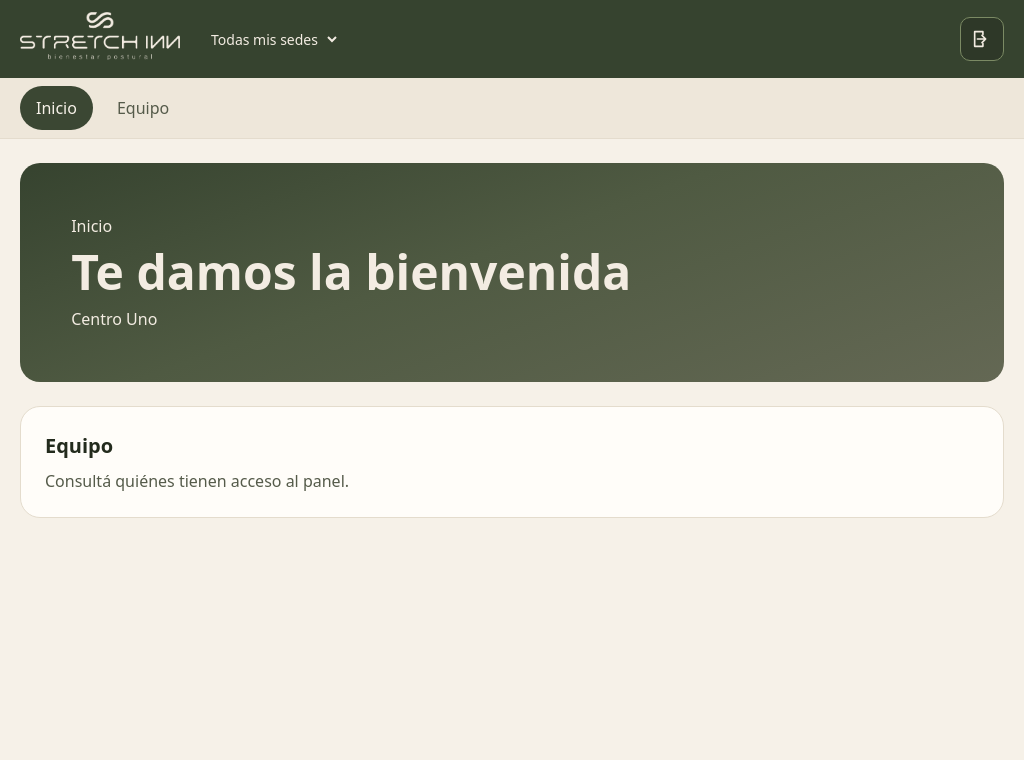
Test: sumar persona › muestra el error de la API tal cual
Click the link "Equipo" at (143, 108), box [117,97,169,119]
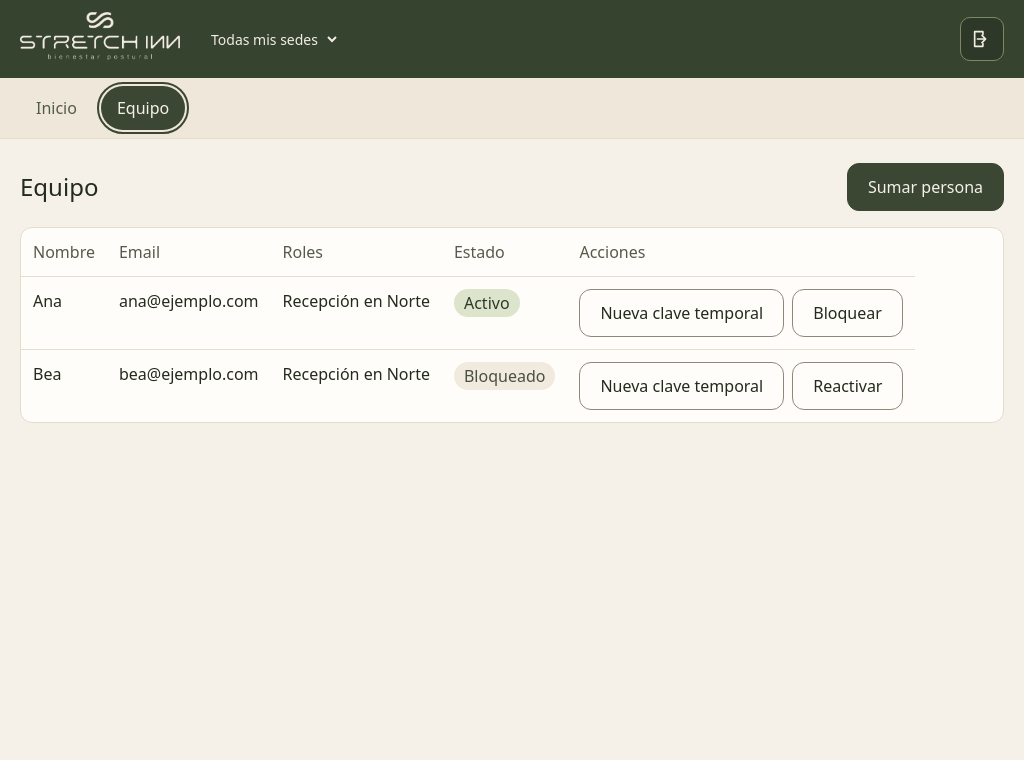
Expected: the heading "Equipo" is shown, [20,169,98,205]
Click the button "Sumar persona" at (925, 187), box [847,163,1004,211]
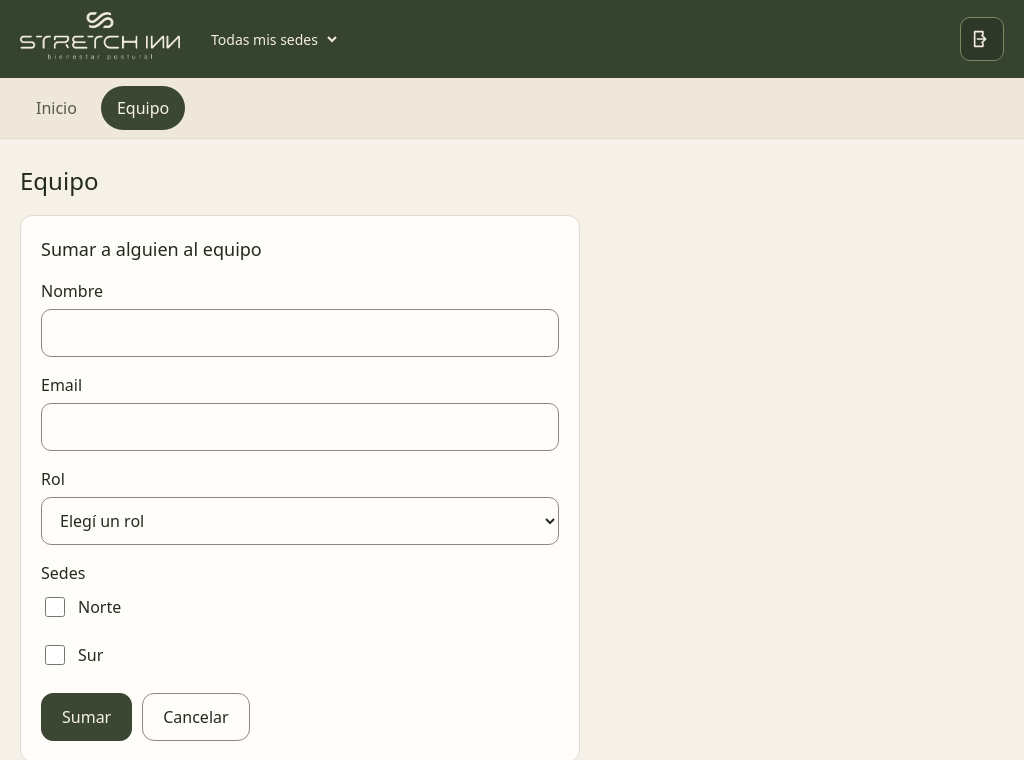
Type "Caro" into the field labelled "Nombre" at (300, 333), box [41,309,559,357]
Type "caro@ejemplo.com" into the field labelled "Email" at (300, 427), box [41,403,559,451]
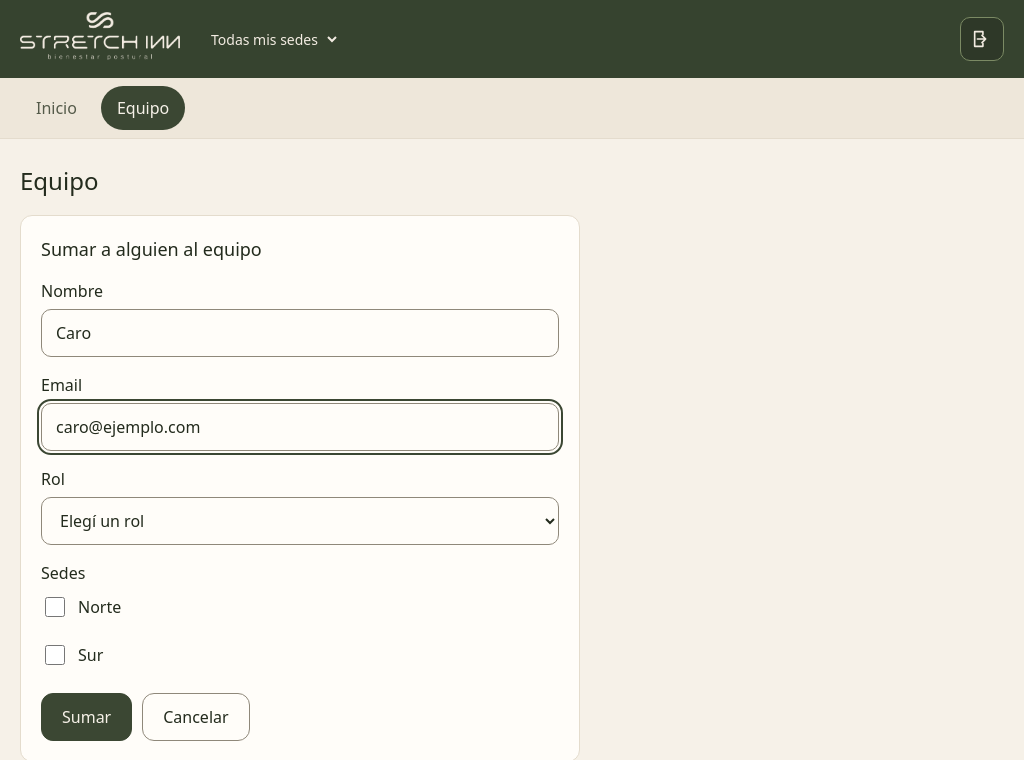
Select "Recepción" in the dropdown labelled "Rol" at (300, 521), box [41,497,559,545]
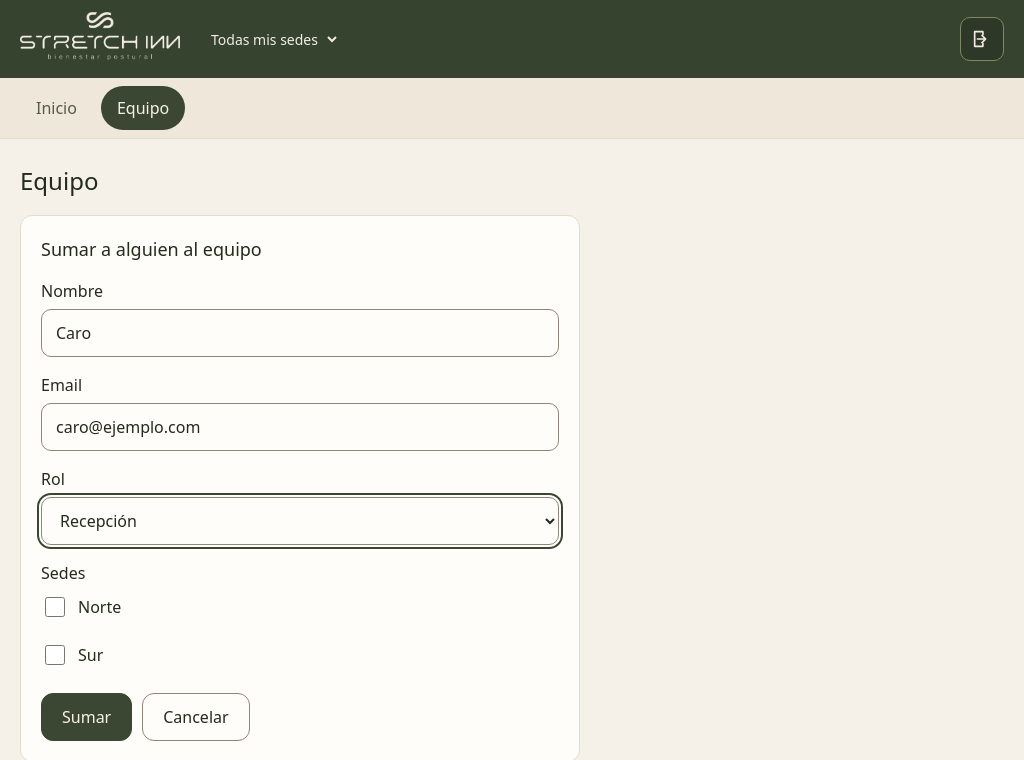
Click the checkbox labelled "Norte" at (55, 607), box [45,597,65,617]
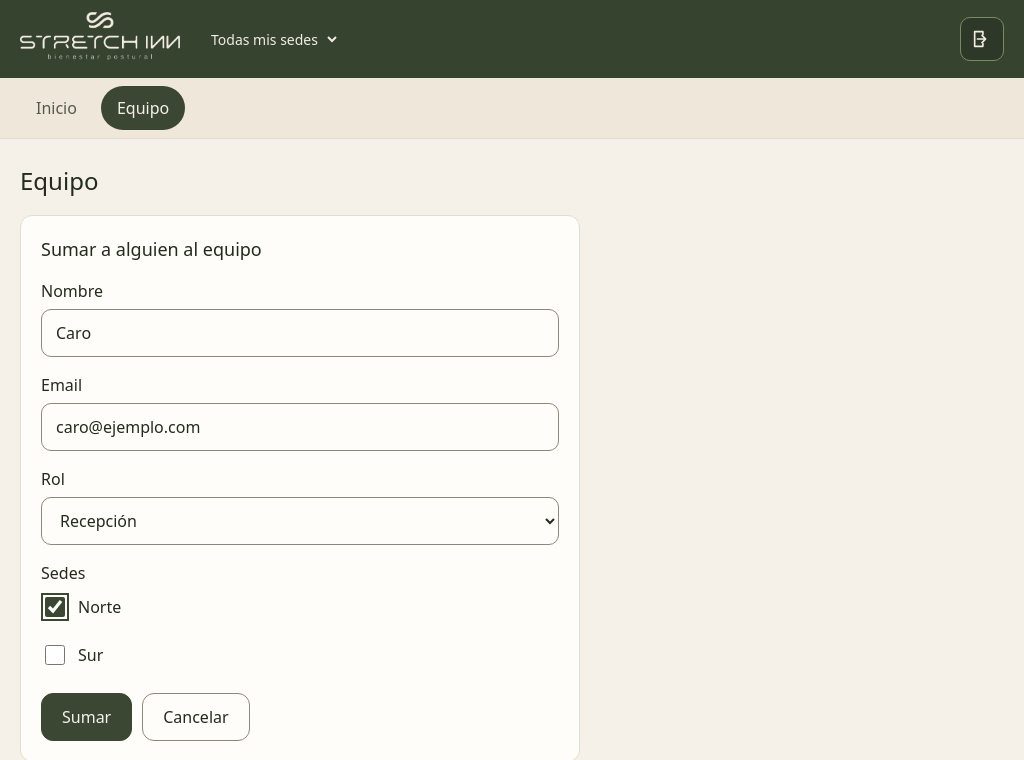
Click the button "Sumar" at (87, 717), box [41,693,132,741]
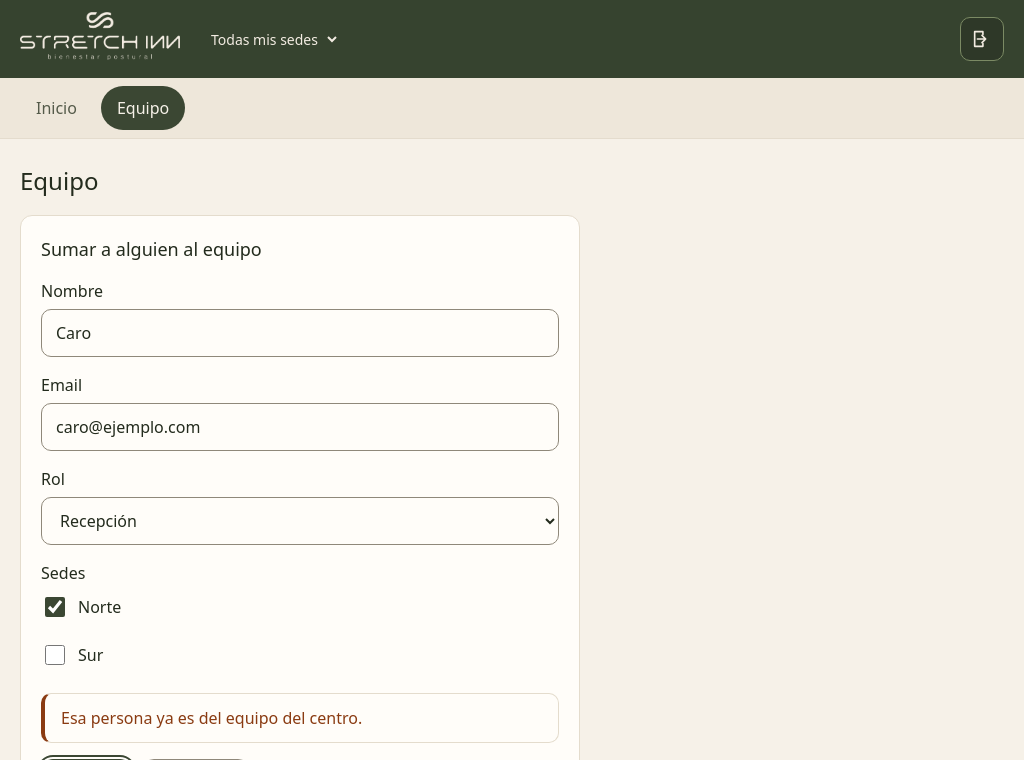
Expected: the message reads "Esa persona ya es del equipo del centro.", [61,707,362,729]
